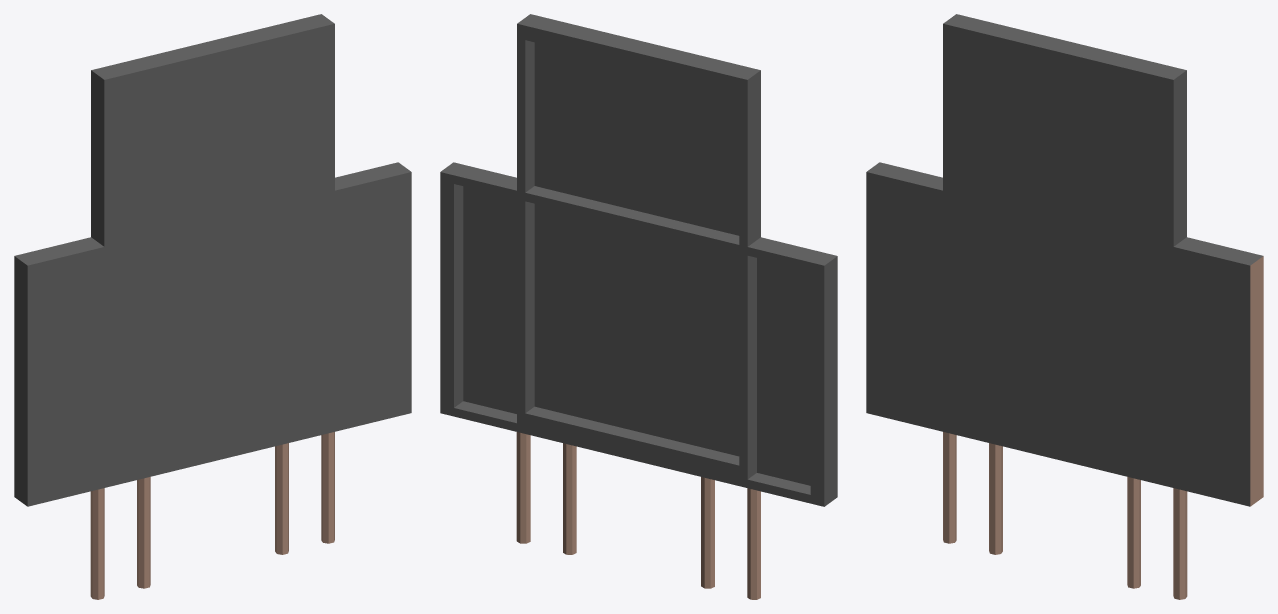
The model's file is billboard.glb.
3 renders of one model, left to right at view 1: azimuth 30°, elevation 25°; view 2: azimuth 150°, elevation 25°; view 3: azimuth 330°, elevation 25°, orthographic.
Visible parts, largest first — view 1: Billboard, Billboard-2; view 2: Billboard-2, Billboard; view 3: Billboard, Billboard-2.
Part boxes in pixels (x1=…): Billboard: x1=14, y1=162, x2=411, y2=599; Billboard-2: x1=91, y1=14, x2=334, y2=588; Billboard-2: x1=517, y1=14, x2=760, y2=588; Billboard: x1=440, y1=162, x2=837, y2=599; Billboard: x1=866, y1=162, x2=1263, y2=599; Billboard-2: x1=943, y1=14, x2=1186, y2=588.
Size of the model in its own units: 5 by 6.49 by 0.3.
